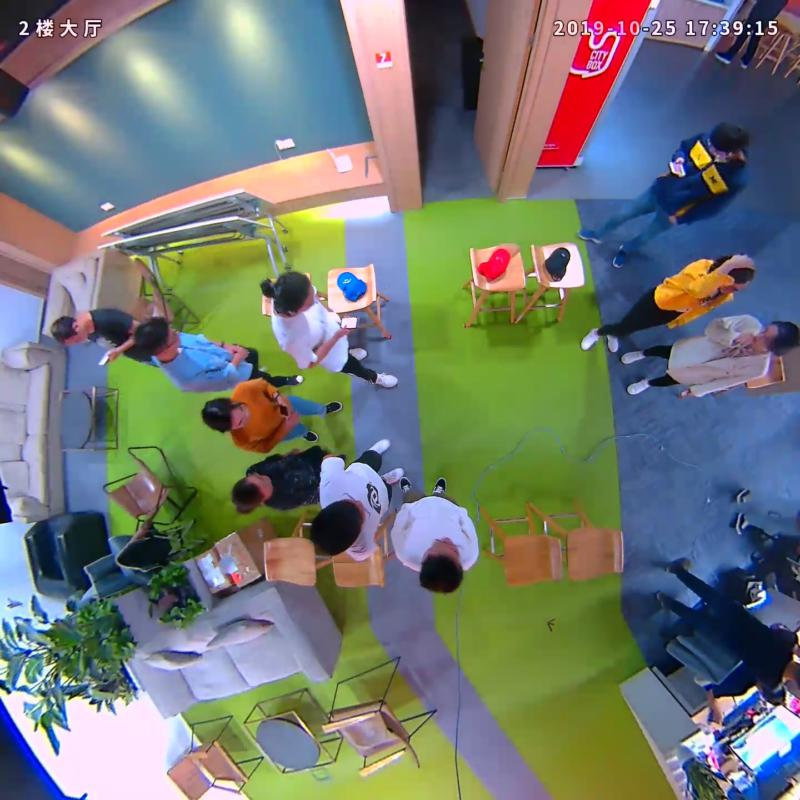head: (310, 496, 365, 554), (419, 537, 463, 593), (272, 270, 315, 316), (135, 317, 181, 360), (714, 253, 754, 297), (750, 320, 800, 354), (202, 397, 248, 433), (231, 471, 273, 510), (708, 123, 748, 159), (50, 315, 88, 346)
